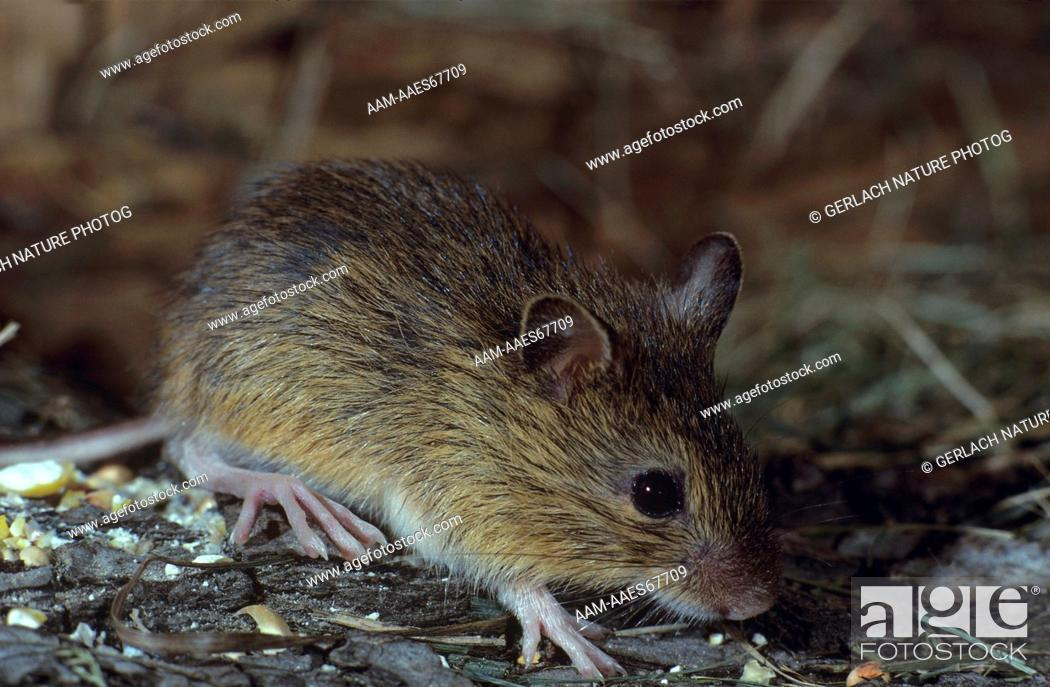rat: (5, 163, 778, 678)
